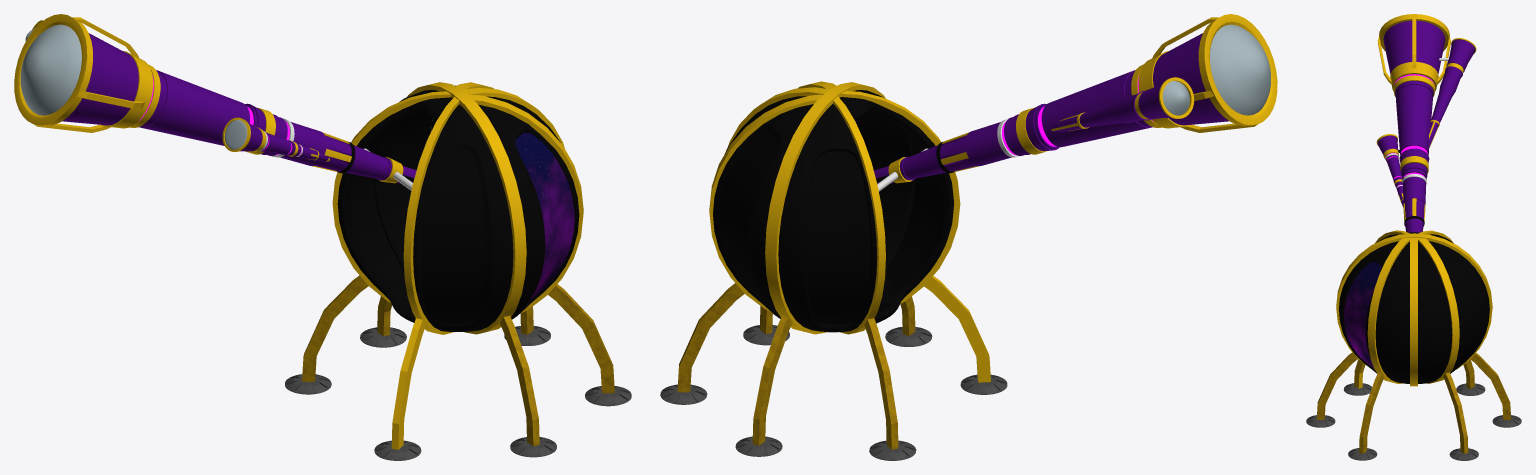
Rendered from Telescope complete.glb.
3 views of the same model, side by side, from view 1: azimuth 30°, elevation 25°; view 2: azimuth 150°, elevation 25°; view 3: azimuth 270°, elevation 25° (orthographic). The views are drawn at different scales.
Parts seen in each view (by area): view 1: Sphere, Cylinder.055, Sphere.003, Sphere.007, Cylinder.046, Circle.007, Sphere.005, Cylinder.001, Circle.011, Circle.009, Cube.007, Cube.005 (+11 smaller); view 2: Sphere, Cylinder.055, Sphere.005, Sphere.004, Cylinder.046, Circle.007, Sphere.003, Cylinder.001, Circle.012, Cylinder.004, Circle.011, Circle.008 (+12 smaller); view 3: Sphere, Cylinder.055, Sphere.004, Sphere.007, Circle.007, Cylinder.004, Circle.009, Circle.008, Circle.010, Cube.007, Cube.005, Cylinder.003 (+14 smaller).
Boxes of the visible parts, box(x1,y1,x2,y2) form: Sphere: box(337, 85, 579, 331); Cylinder.055: box(62, 33, 416, 183); Sphere.003: box(420, 149, 486, 324); Sphere.007: box(515, 132, 574, 300); Cylinder.046: box(20, 24, 81, 115); Circle.007: box(407, 82, 526, 334); Sphere.005: box(348, 131, 402, 284); Cylinder.001: box(14, 14, 92, 125); Circle.011: box(403, 97, 459, 334); Circle.009: box(459, 94, 583, 313); Cube.007: box(548, 284, 614, 393); Cube.005: box(500, 315, 539, 446); Sphere: box(713, 90, 953, 332); Cylinder.055: box(874, 33, 1228, 183); Sphere.005: box(806, 151, 871, 324); Sphere.004: box(718, 131, 778, 301); Cylinder.046: box(1210, 24, 1270, 115); Circle.007: box(765, 82, 885, 334); Sphere.003: box(886, 129, 943, 286); Cylinder.001: box(1198, 14, 1277, 125); Circle.012: box(833, 96, 885, 334); Cylinder.004: box(1052, 83, 1171, 132); Circle.011: box(841, 91, 960, 303); Circle.008: box(709, 94, 823, 312); Sphere: box(1339, 232, 1489, 383); Cylinder.055: box(1383, 20, 1445, 232); Sphere.004: box(1446, 261, 1484, 369); Sphere.007: box(1343, 262, 1381, 367); Circle.007: box(1336, 233, 1492, 369); Cylinder.004: box(1429, 39, 1475, 147); Circle.009: box(1367, 238, 1409, 383); Circle.008: box(1418, 238, 1459, 383); Circle.010: box(1410, 237, 1417, 386); Cube.007: box(1359, 372, 1384, 453); Cube.005: box(1316, 352, 1357, 419); Cylinder.003: box(1377, 135, 1403, 206).
Size of what is drawn, in the model's own units: 33.29 by 26.55 by 17.81.
58 materials, 57 textured.
